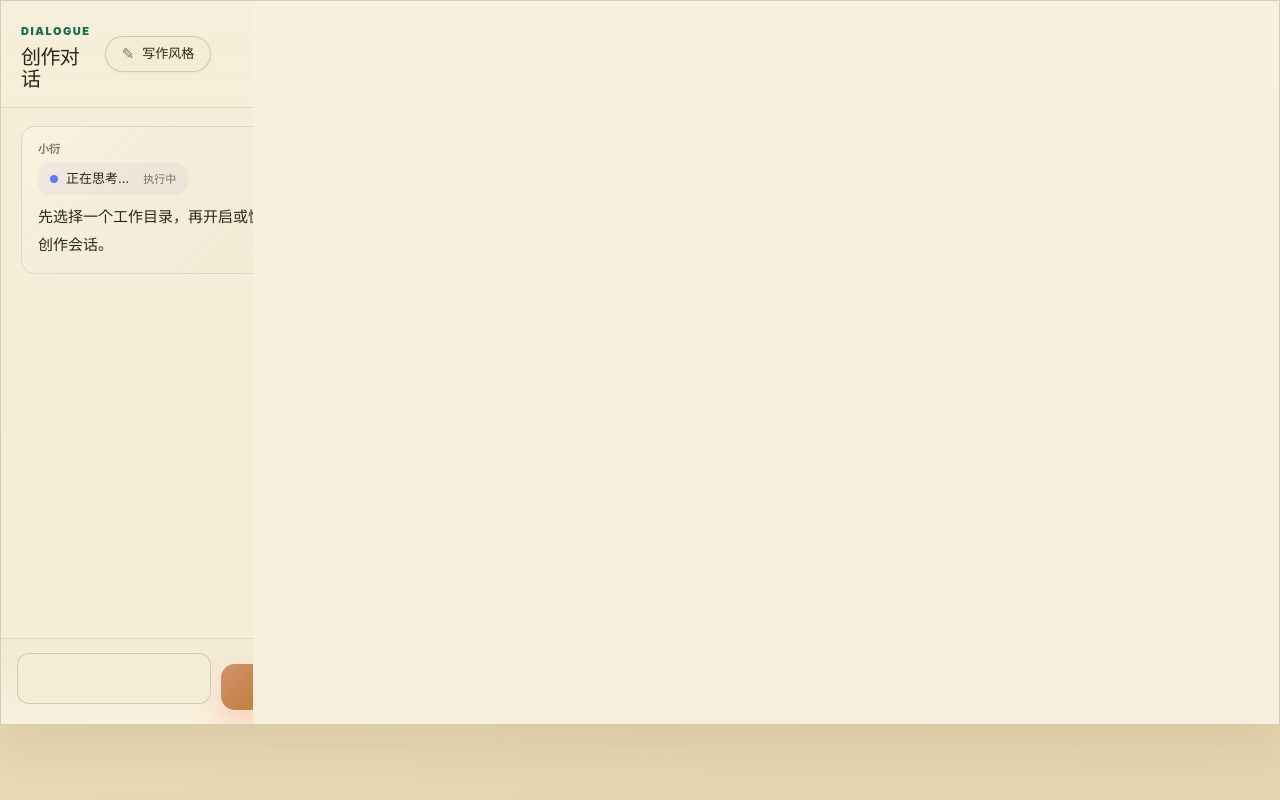
T0a: 发消息 → SSE → completed 全流程 › 用户发送消息后，SSE 流式累积正文，final 后标记 completed
Type "写一个关于勇气的故事" into the text box at (114, 678), box [17,653,211,704]
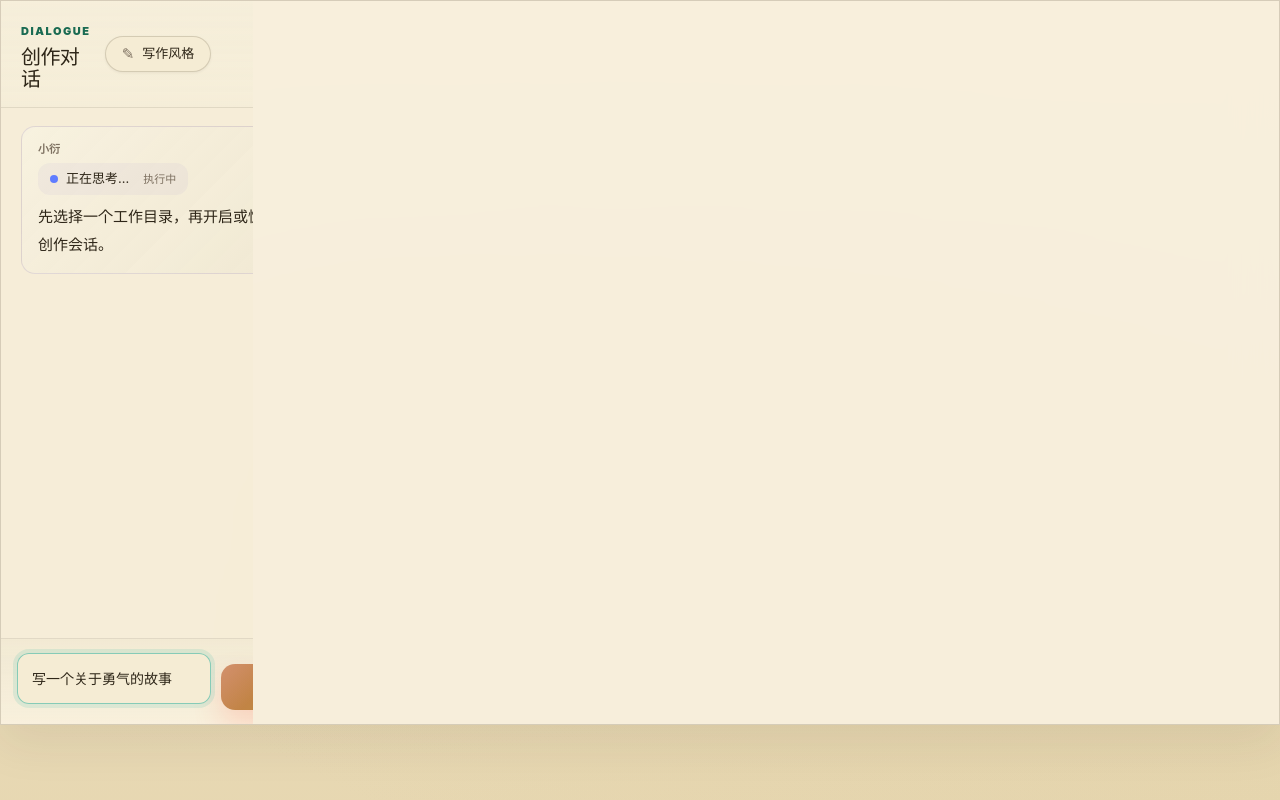
Press Enter
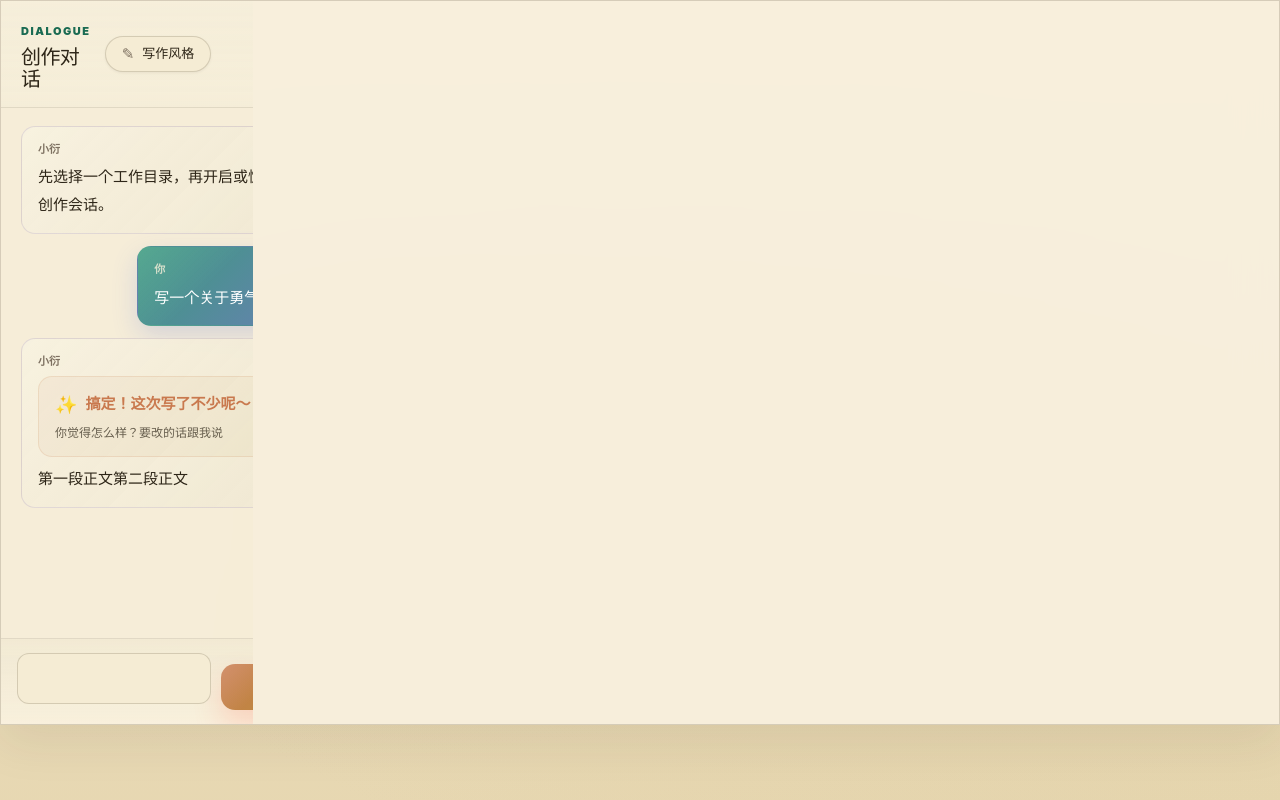
Check: the text "第一段正文第二段正文" is shown, box [38,469,188,488]
